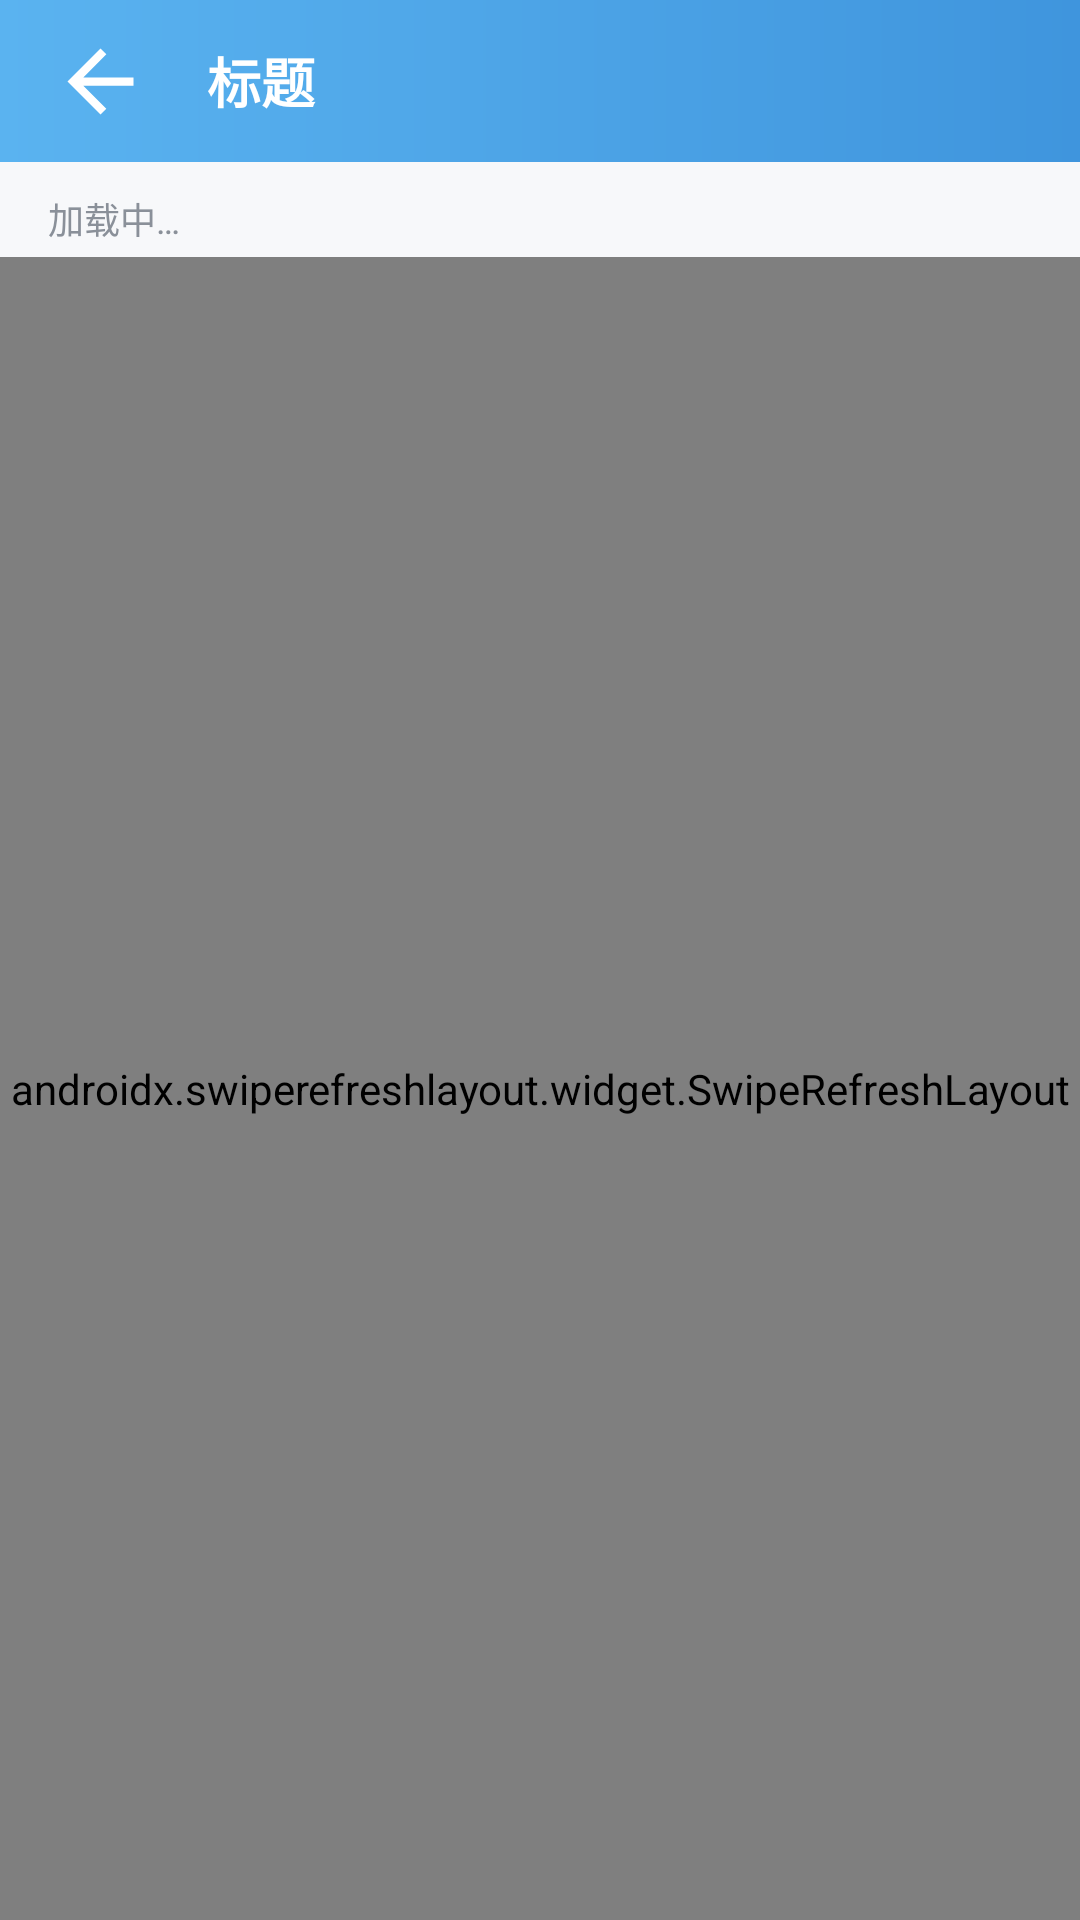

Where icons sit on this 1080 x 1920 app screen, as (x1, y1, x2, y2):
返回: (67, 48, 134, 115)
